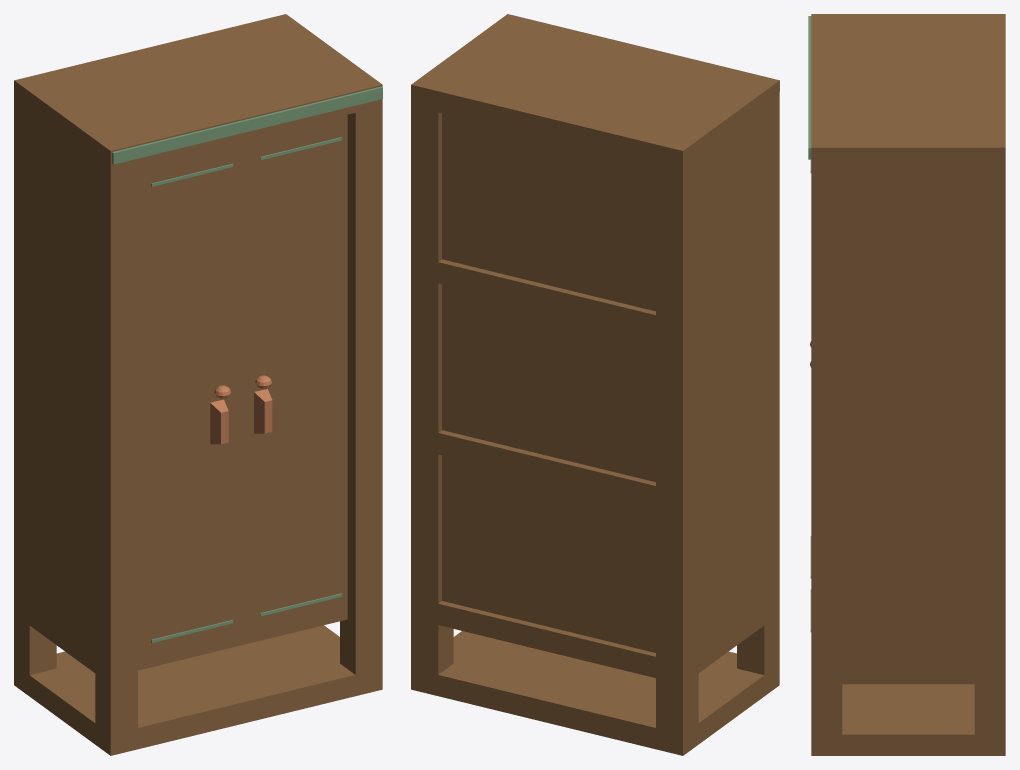
Rendered from bookcaseClosedDoors.glb.
The picture shows the model from 3 angles, left to right: view 1: azimuth 30°, elevation 25°; view 2: azimuth 150°, elevation 25°; view 3: azimuth 270°, elevation 25°; orthographic projection.
Parts seen in each view (by area): view 1: bookcaseClosedDoors(Clone), doorRight, doorLeft; view 2: bookcaseClosedDoors(Clone); view 3: bookcaseClosedDoors(Clone).
Part boxes in pixels (x1,y1,x2,y2): bookcaseClosedDoors(Clone): (14,14,382,755); doorRight: (239,114,347,635); doorLeft: (138,141,238,659); bookcaseClosedDoors(Clone): (411,14,779,755); bookcaseClosedDoors(Clone): (808,14,1005,755).
Bounding box in the file's own units: 0.4 × 0.85 × 0.25.
